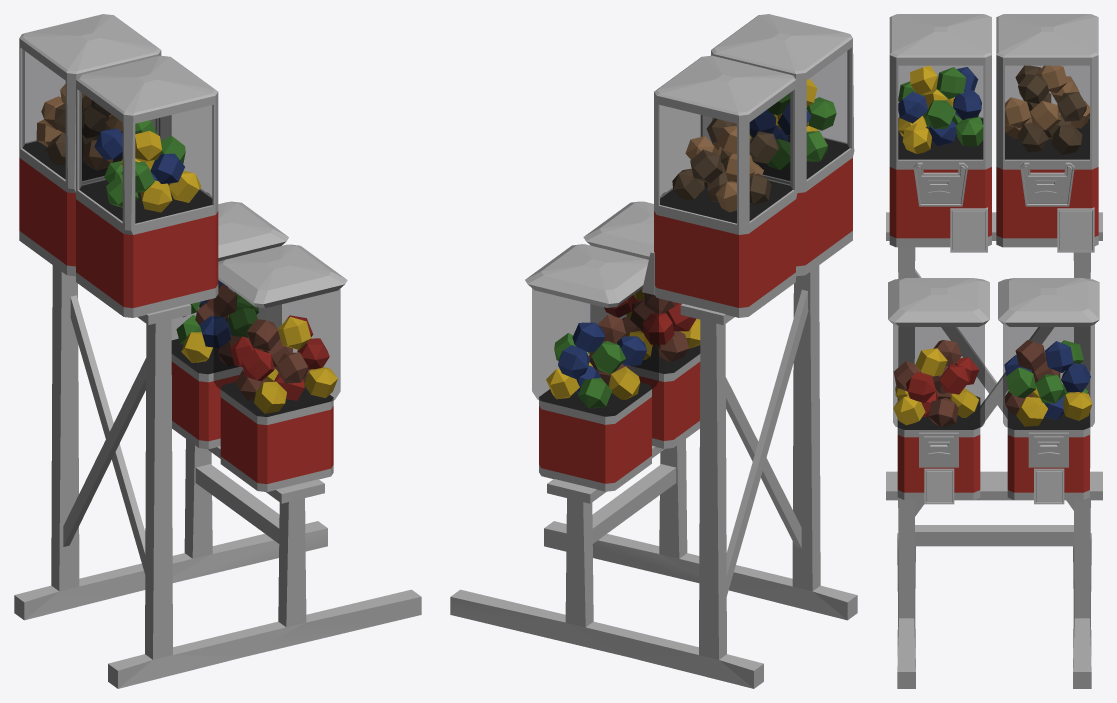
Rendered from SM_candy_machine_1.gltf.
The picture shows the model from 3 angles, left to right: view 1: azimuth 30°, elevation 25°; view 2: azimuth 150°, elevation 25°; view 3: azimuth 270°, elevation 25°; orthographic projection. The views are drawn at different scales.
Parts seen in each view (by area): view 1: SM_candy_machine_1; view 2: SM_candy_machine_1; view 3: SM_candy_machine_1.
Boxes of the visible parts, x1,y1,x2,y2 form: SM_candy_machine_1: (14, 14, 421, 688); SM_candy_machine_1: (450, 14, 857, 688); SM_candy_machine_1: (886, 14, 1102, 688).
Bounding box in the file's own units: 1.14 × 2.08 × 0.7486.
Materials: 2 (1 with a texture image).
